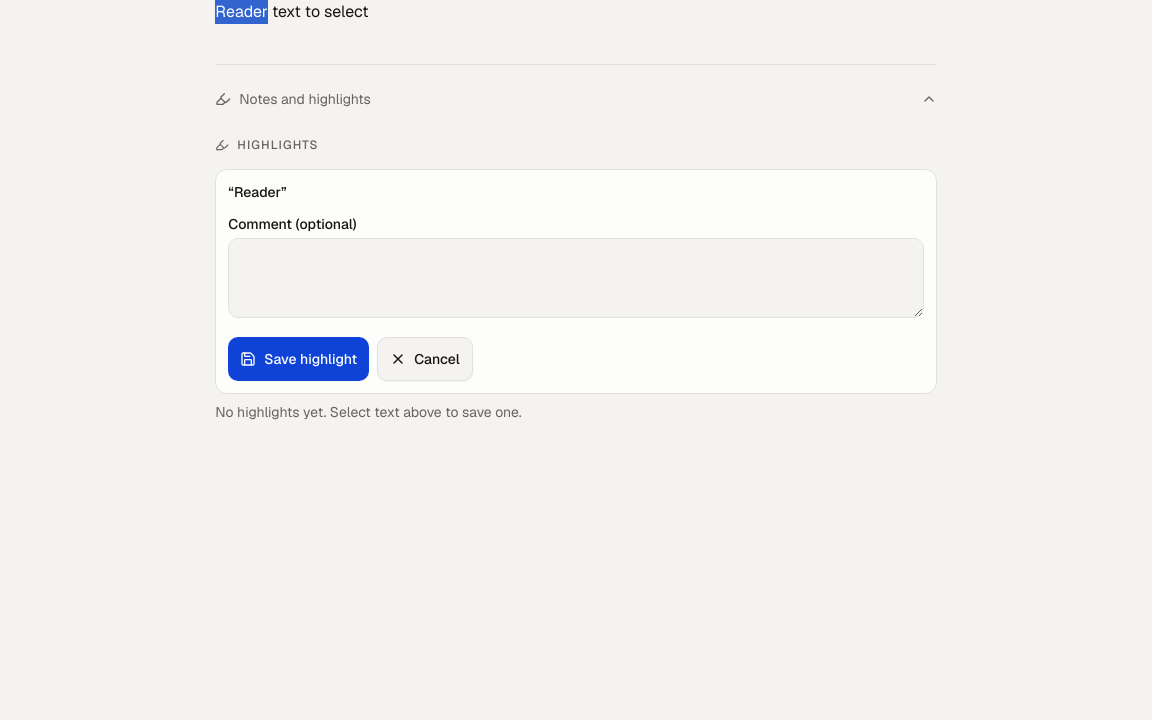
Scenario: ReaderAnnotations › reports a failed anchored highlight save and ignores empty selections
This screenshot has width=1152, height=720.
Click the button "Save highlight" at (299, 359), box [228,337,369,381]
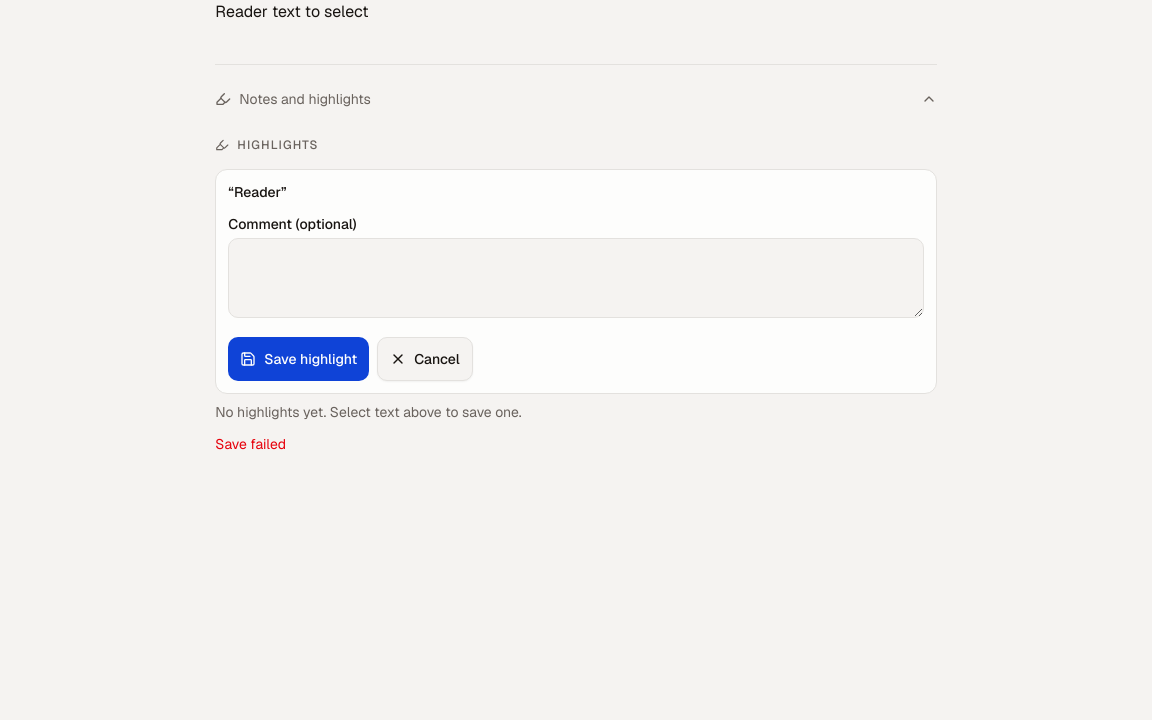
Expected: the dialog "Save highlight" is shown, [215,169,937,394]
Now the message reads "Save failed", box [215,435,286,453]
